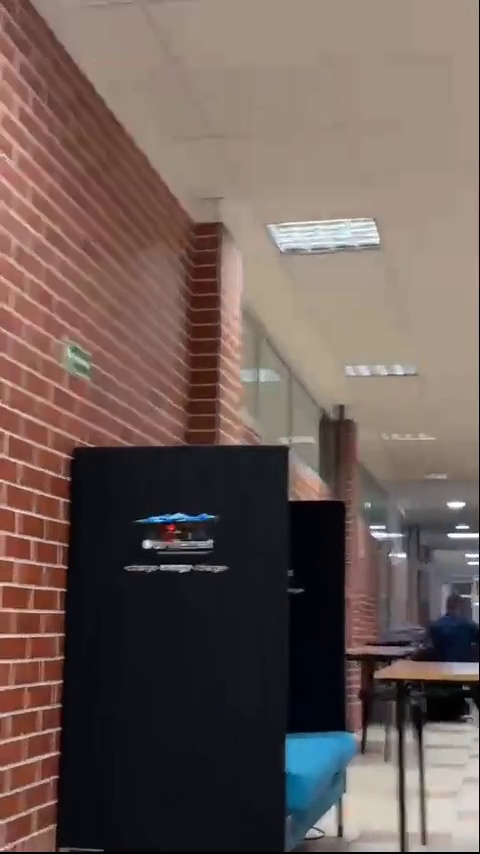drone: (134, 511, 220, 542)
no vest: (420, 591, 480, 659)
